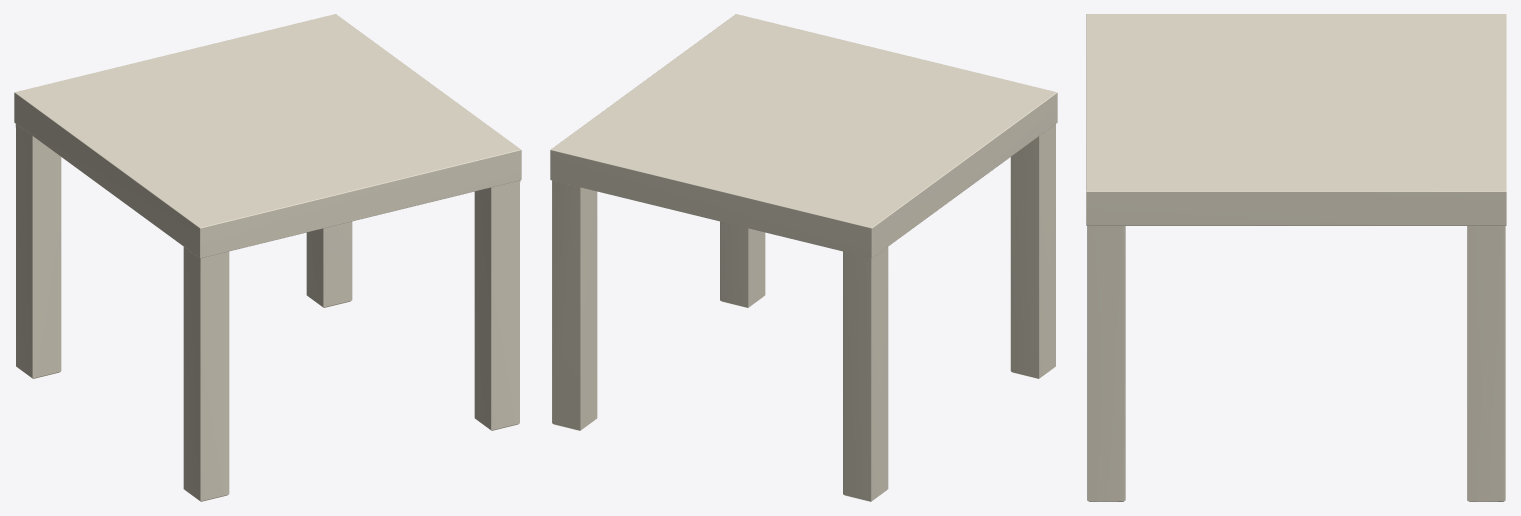
Rendered from town-lack.glb.
3 views of the same model, side by side, from view 1: azimuth 30°, elevation 25°; view 2: azimuth 150°, elevation 25°; view 3: azimuth 270°, elevation 25° (orthographic). The views are drawn at different scales.
Visible parts, largest first — view 1: 30449908-LACK002; view 2: 30449908-LACK002; view 3: 30449908-LACK002.
Boxes of the visible parts, x1,y1,x2,y2 form: 30449908-LACK002: (14,14,521,501); 30449908-LACK002: (550,14,1057,501); 30449908-LACK002: (1086,14,1506,501).
Bounding box in the file's own units: 0.55 × 0.45 × 0.55.
